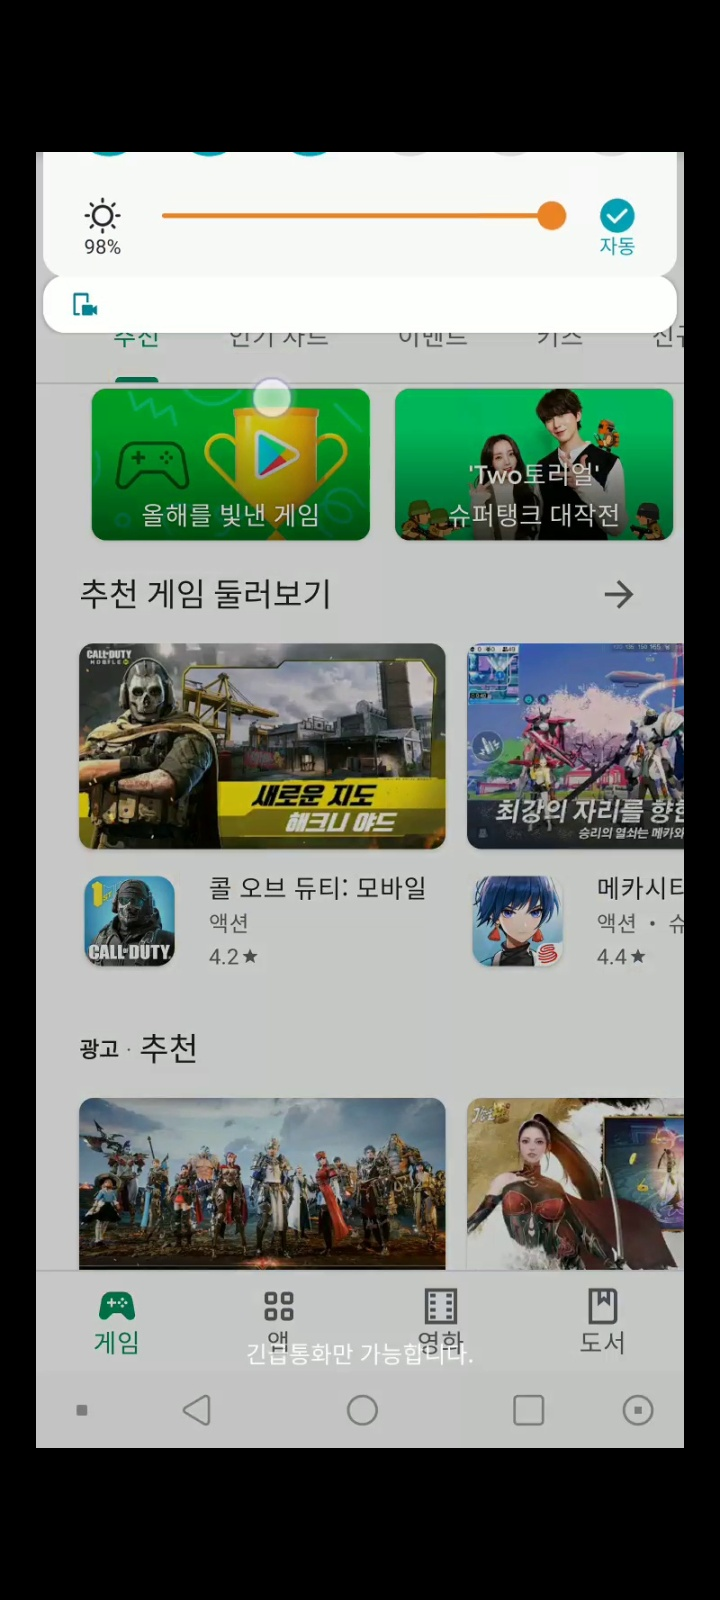Cursor: (251, 374, 296, 419)
